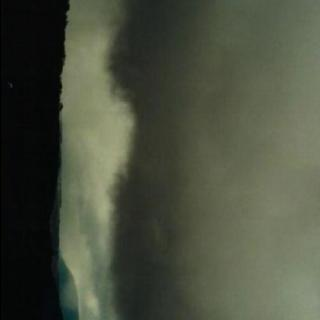Stratocumulus: (59, 0, 320, 320)
